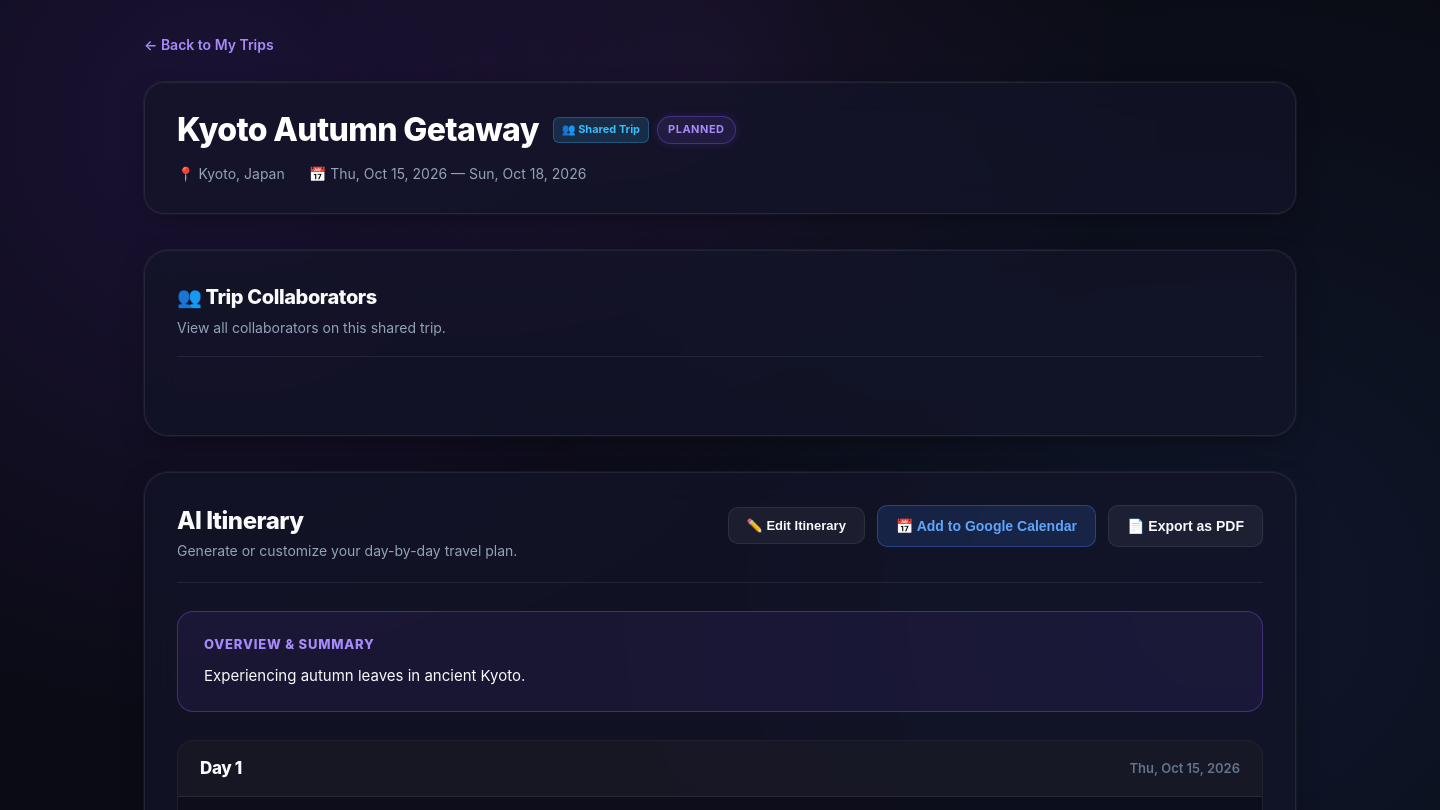
Scenario: TripDetailsPage User-Editable Itinerary › cancel button discards unsaved changes and restores original itinerary view
Click the button with test id "edit-itinerary-btn": (796, 526) x1=728 y1=507 x2=865 y2=544
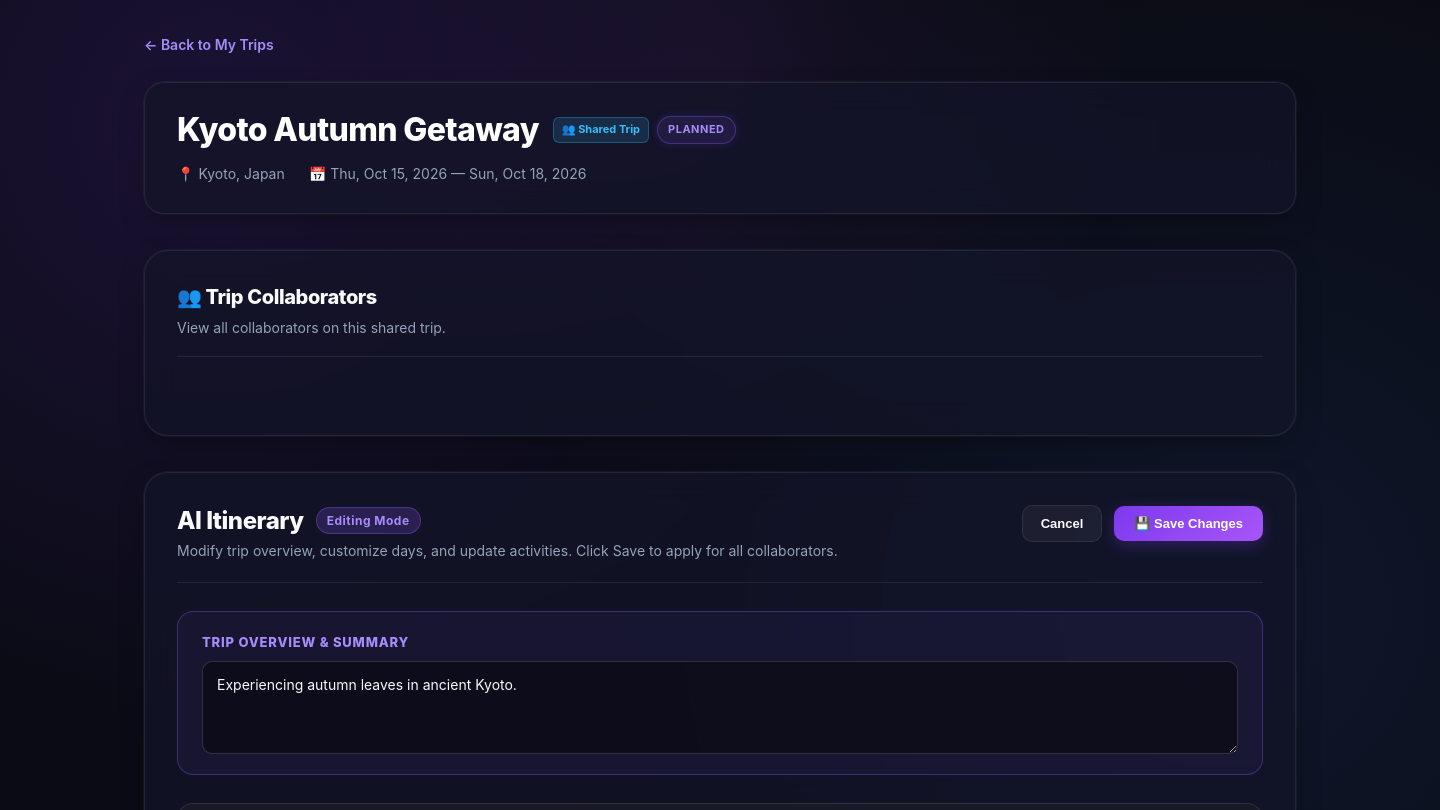
Modify summary
Replace the text in the text box with test id "edit-trip-summary" with "Unsaved Temporary Edits": (720, 708) x1=202 y1=661 x2=1238 y2=754
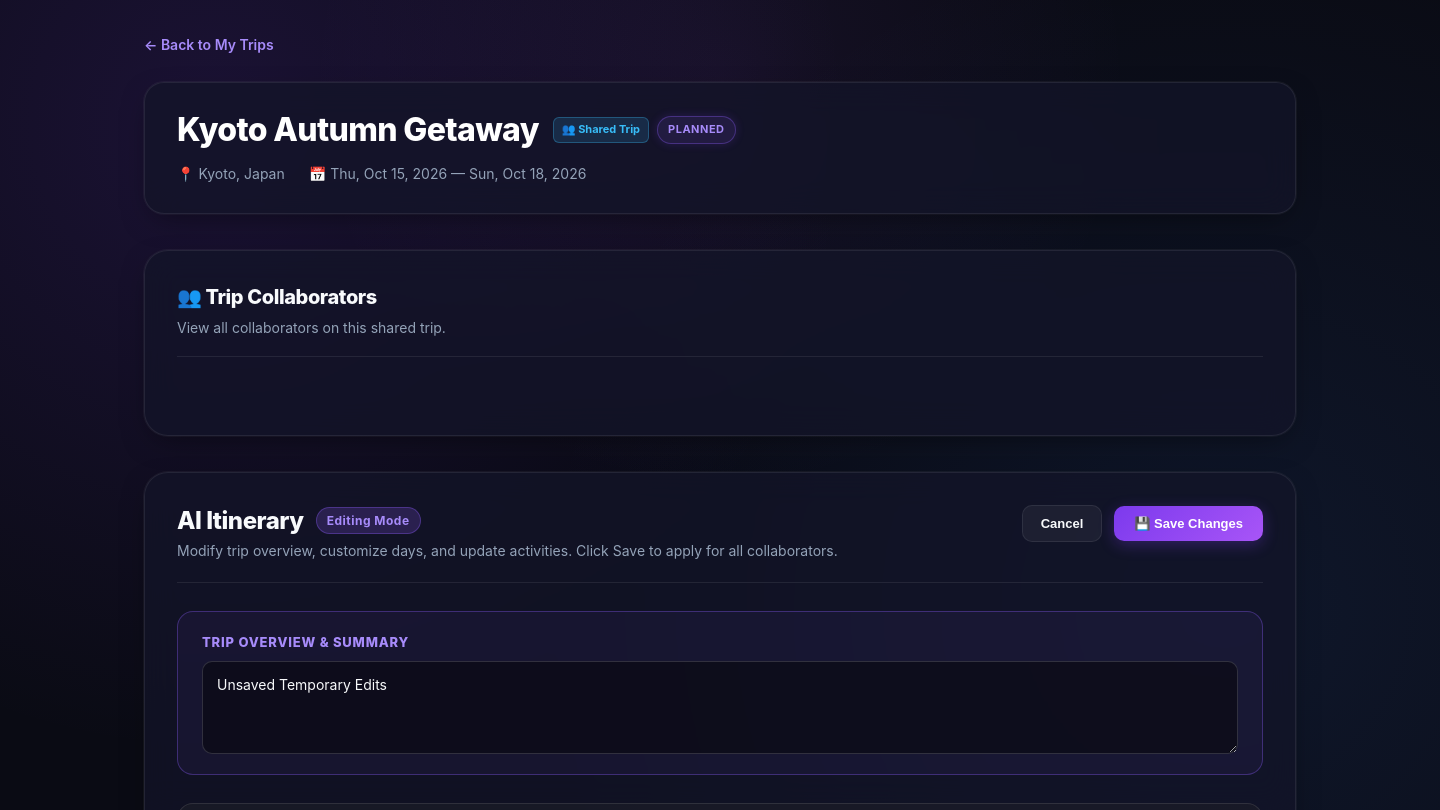
Click the button with test id "cancel-edit-itinerary-btn": (1062, 523) x1=1022 y1=505 x2=1102 y2=542
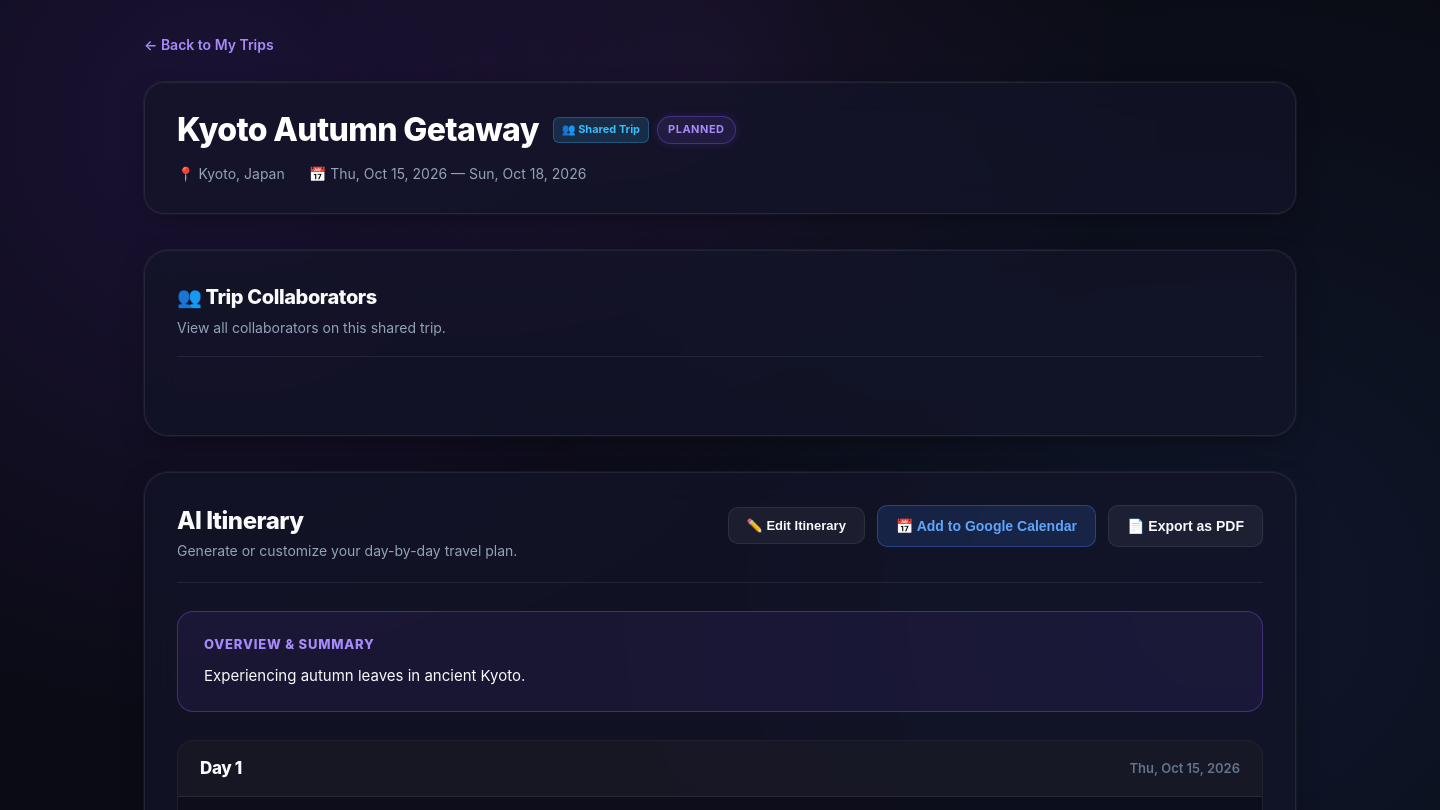
Expected: the text with test id "edit-mode-badge" is gone
Expected: the text "Experiencing autumn leaves in ancient Kyoto." is shown, x1=204 y1=666 x2=525 y2=685
